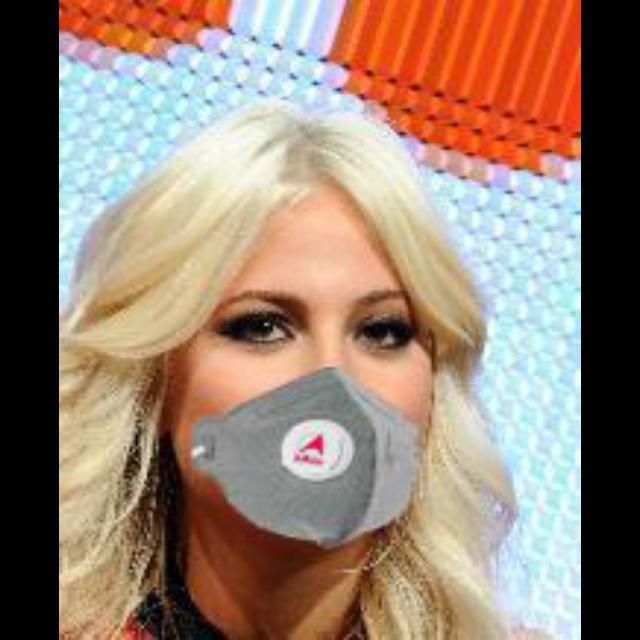suspicion: (166, 128, 456, 572)
